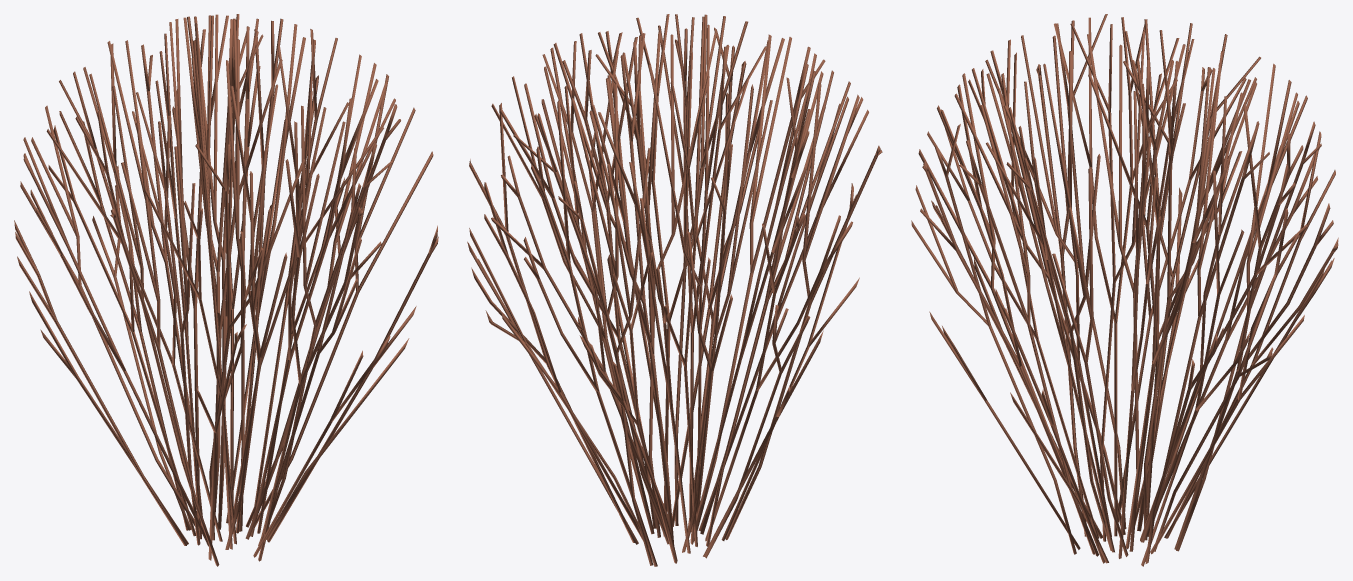
File: shrub_round_03_dead.glb
The picture shows the model from 3 angles, left to right: view 1: azimuth 30°, elevation 25°; view 2: azimuth 150°, elevation 25°; view 3: azimuth 270°, elevation 25°; orthographic projection.
Parts seen in each view (by area): view 1: shrub_round_03_dead; view 2: shrub_round_03_dead; view 3: shrub_round_03_dead.
Part boxes in pixels (x1=…): shrub_round_03_dead: x1=14, y1=14, x2=438, y2=566; shrub_round_03_dead: x1=467, y1=14, x2=882, y2=566; shrub_round_03_dead: x1=911, y1=14, x2=1338, y2=566.
Size of the model in its own units: 1.63 by 2.23 by 1.69.
